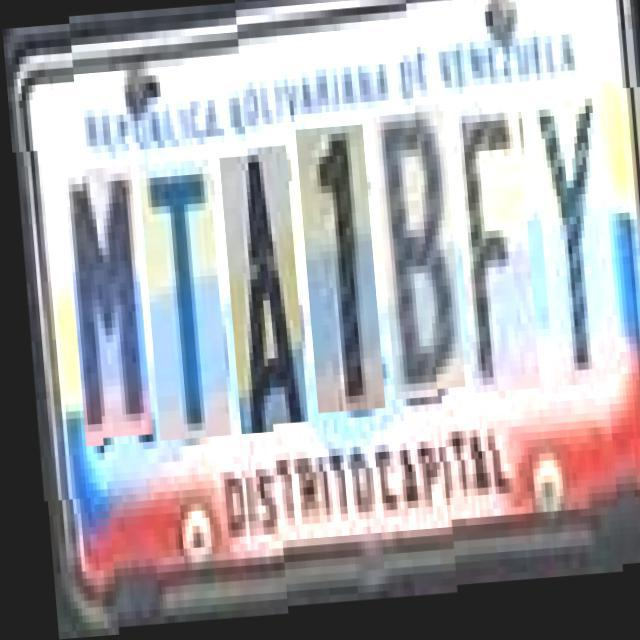1: (292, 123, 378, 411)
A: (215, 142, 300, 423)
B: (369, 110, 458, 398)
F: (447, 106, 533, 401)
M: (60, 152, 144, 426)
T: (134, 148, 222, 428)
Y: (528, 100, 614, 396)
